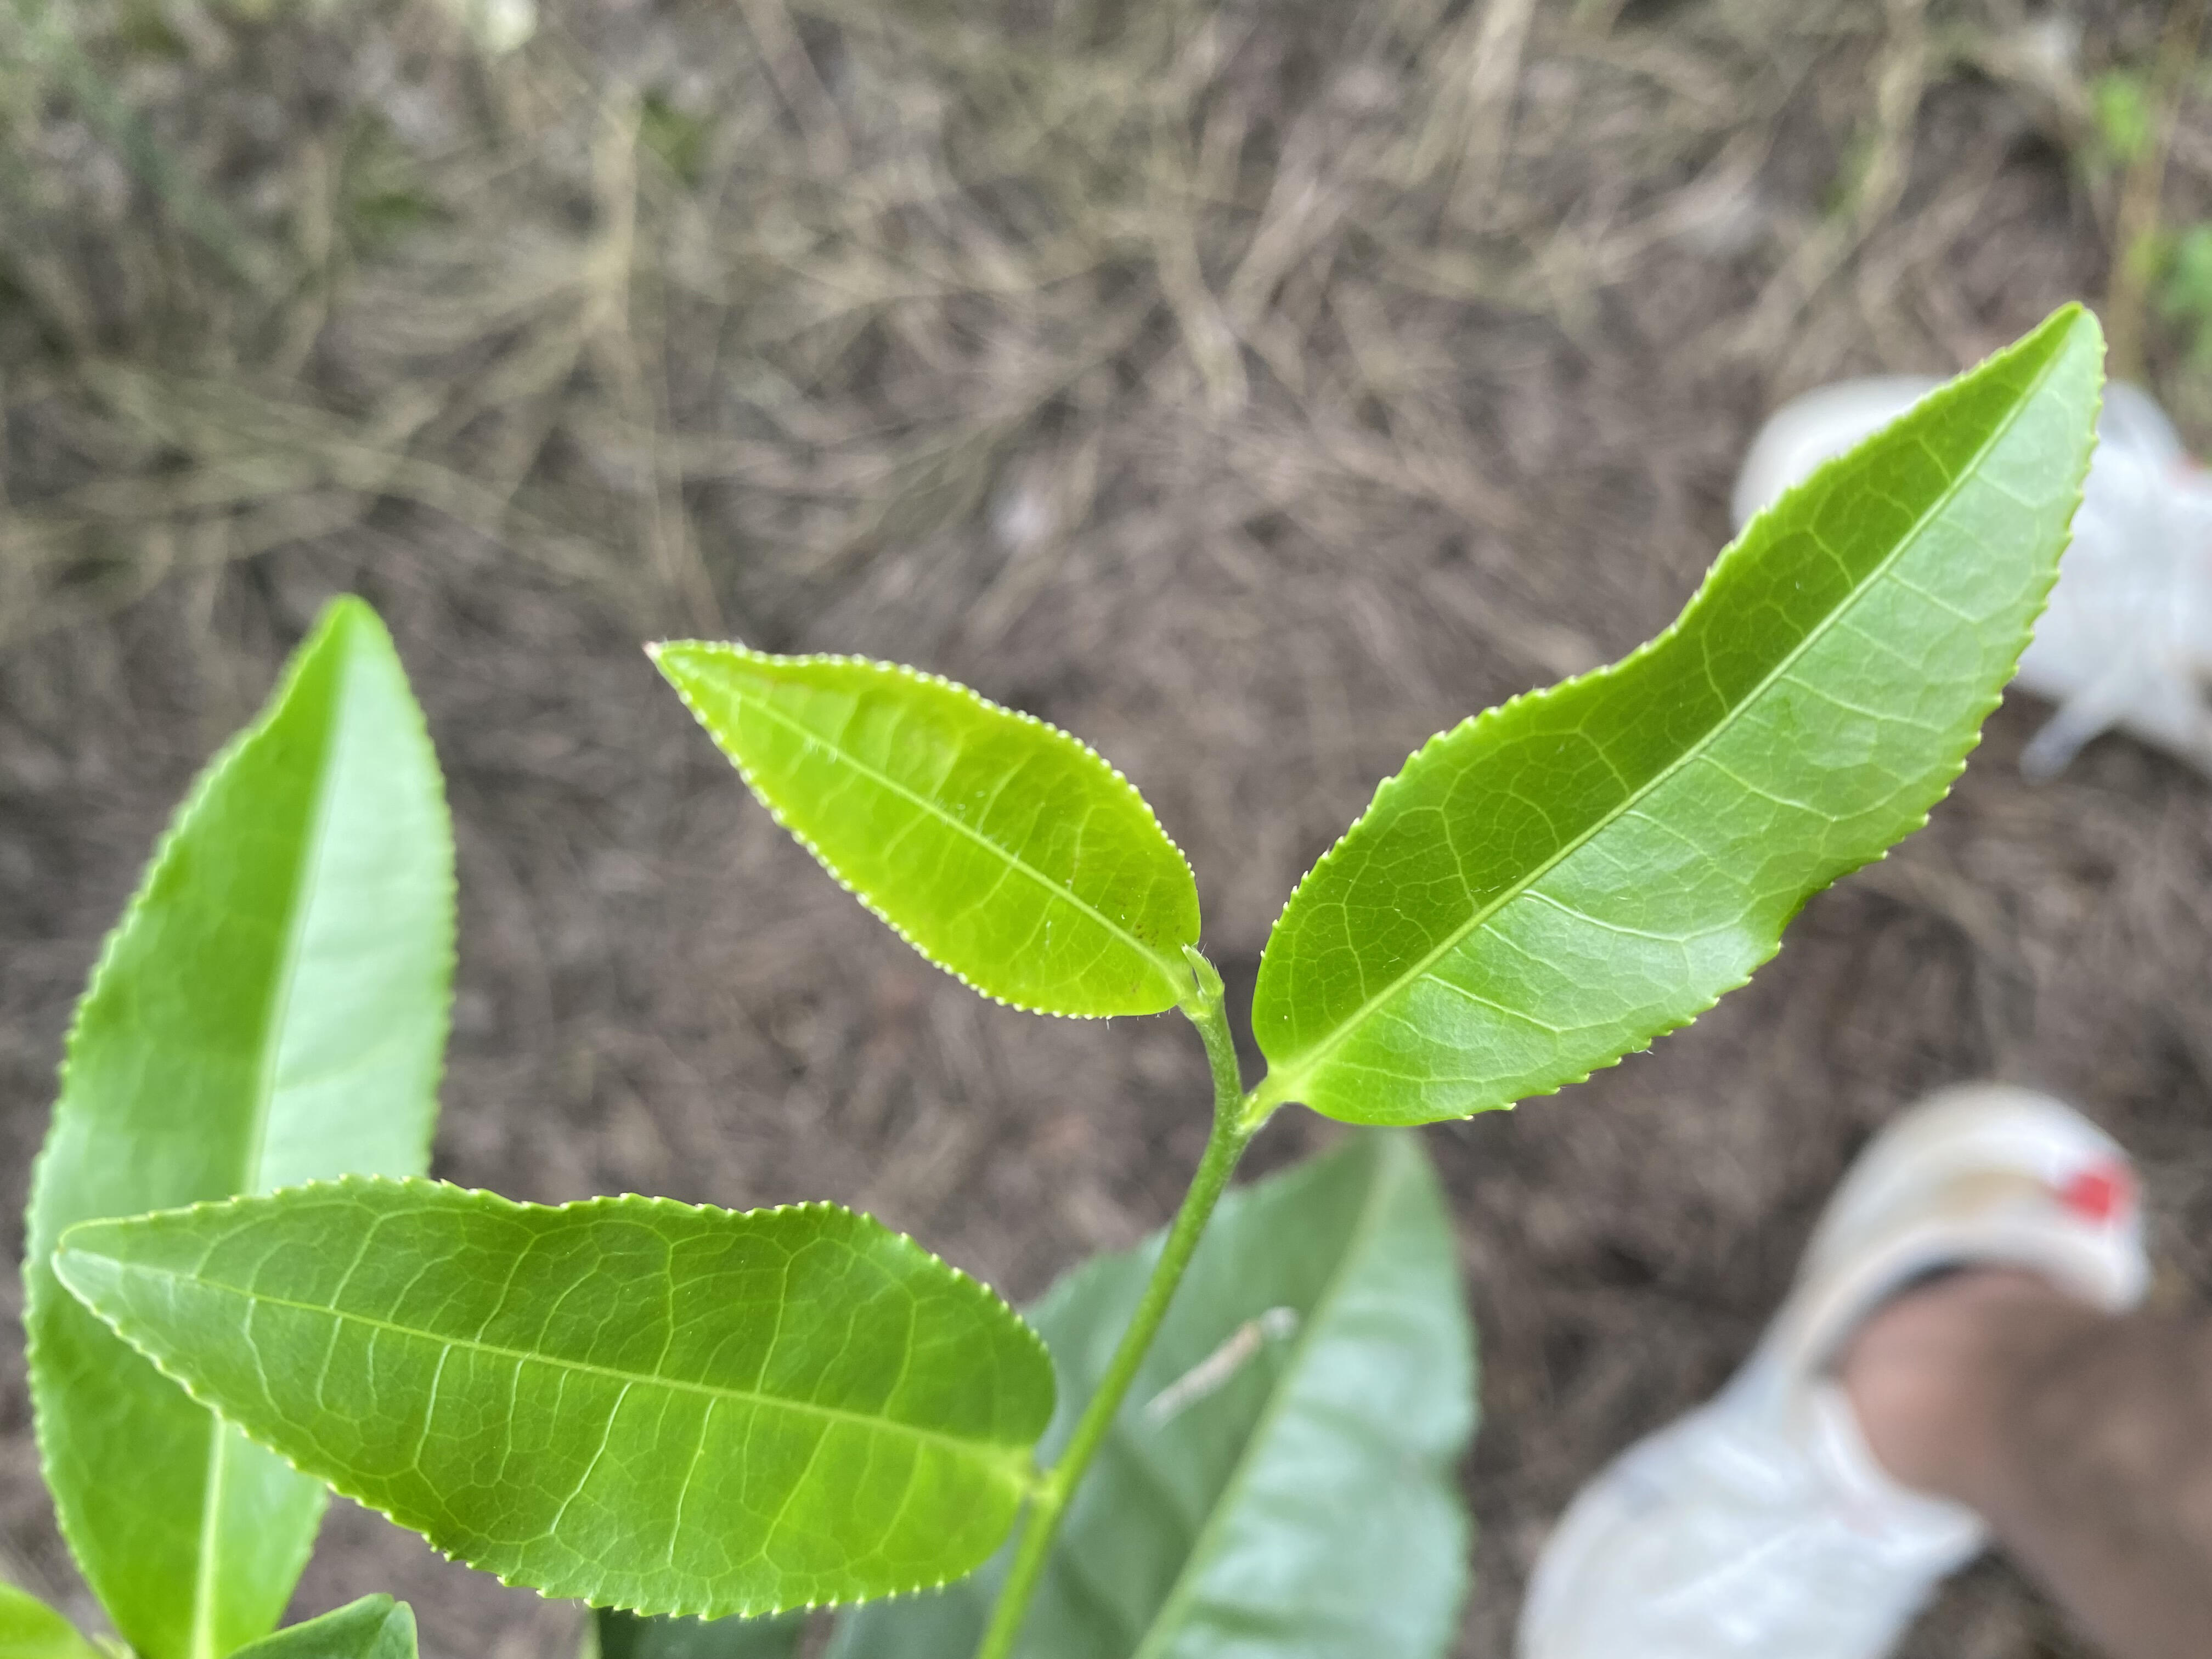healthy: (1251, 298, 2111, 1131), (21, 594, 467, 1654), (52, 1173, 1061, 1626), (641, 636, 1205, 1019)
